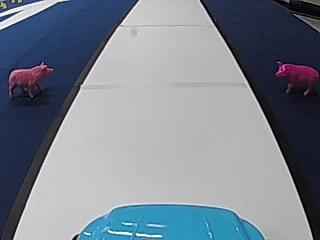pig: (6, 59, 53, 98), (272, 58, 319, 94)
